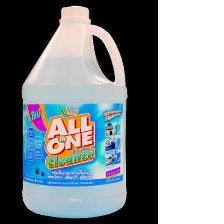cleaning_solution: (18, 2, 130, 220)
